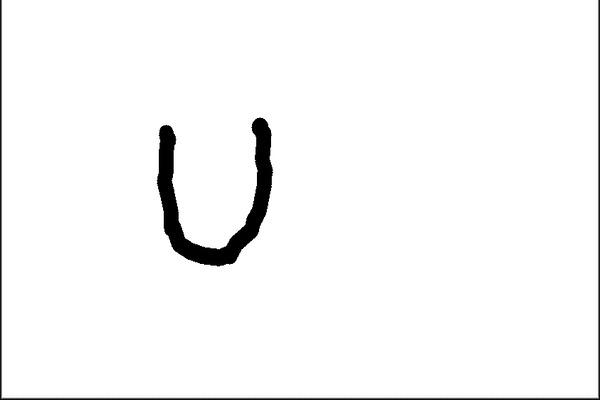U: (130, 107, 286, 272)
